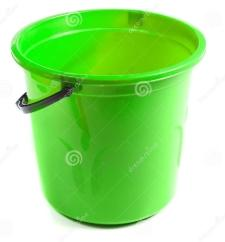SEAU: (0, 7, 225, 242)
